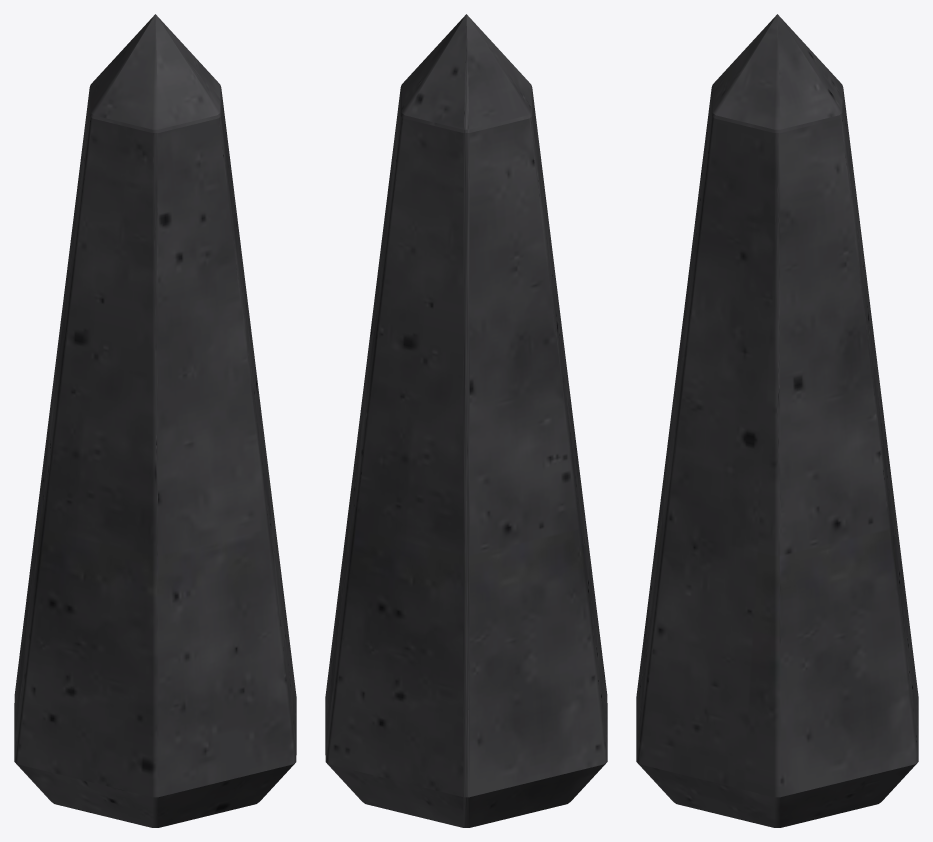
The model's file is hexalith_black_bishop.glb.
3 views of the same model, side by side, from view 1: azimuth 30°, elevation 25°; view 2: azimuth 150°, elevation 25°; view 3: azimuth 270°, elevation 25° (orthographic).
Visible parts, largest first — view 1: HEXALITH_black_bishop; view 2: HEXALITH_black_bishop; view 3: HEXALITH_black_bishop.
Part boxes in pixels (<box>): HEXALITH_black_bishop: <box>14,14,296,827</box>; HEXALITH_black_bishop: <box>325,14,607,827</box>; HEXALITH_black_bishop: <box>636,14,918,827</box>.
Bounding box in the file's own units: 0.0306 × 0.0802 × 0.0268.
Materials: 1 (1 with a texture image).
